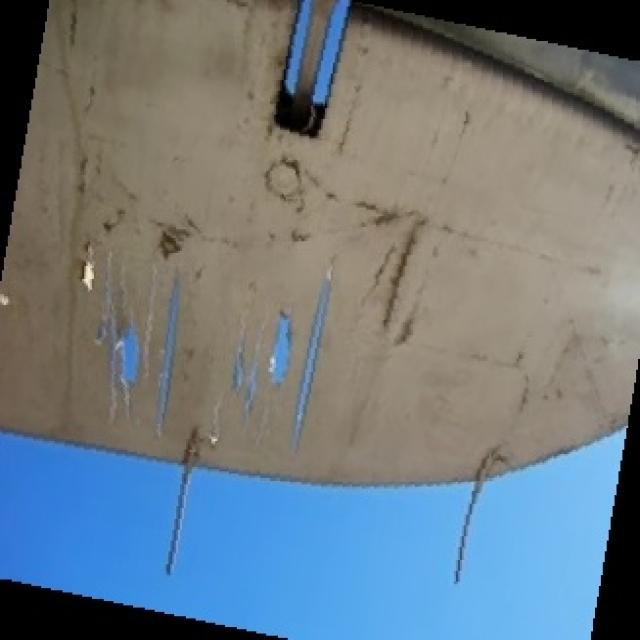crack: (83, 239, 346, 468)
